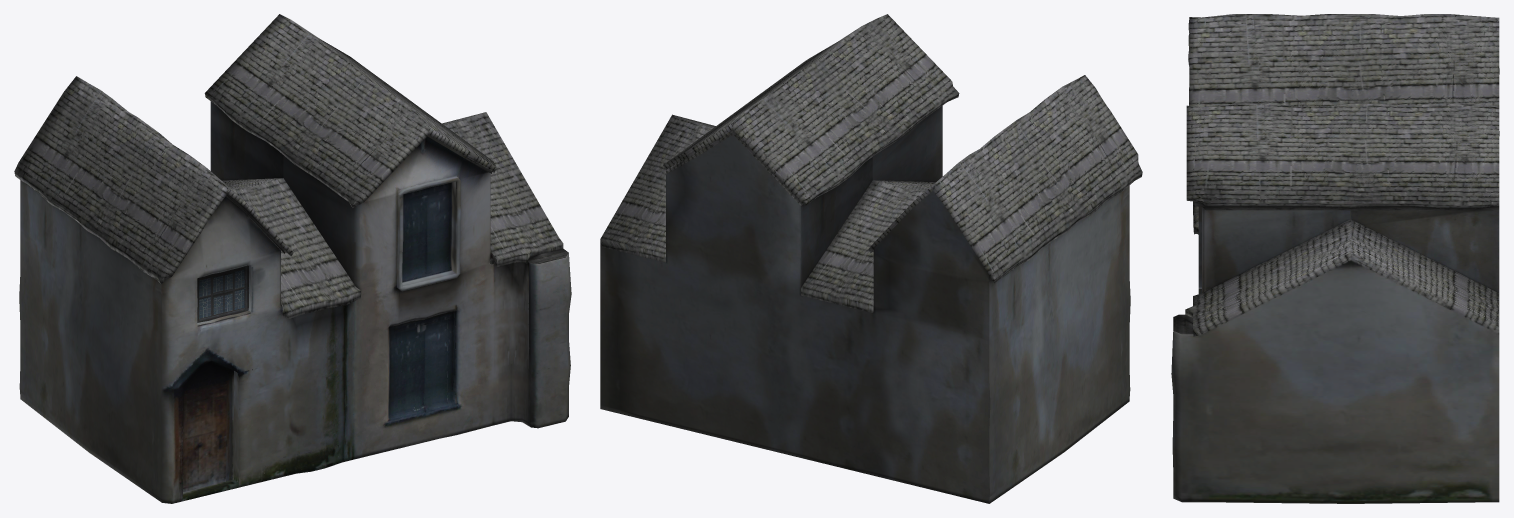
Rendered from medhouse19.fbx.
The picture shows the model from 3 angles, left to right: view 1: azimuth 30°, elevation 25°; view 2: azimuth 150°, elevation 25°; view 3: azimuth 270°, elevation 25°; orthographic projection. The views are drawn at different scales.
Visible parts, largest first — view 1: medhouse19; view 2: medhouse19; view 3: medhouse19.
Boxes of the visible parts, x1=… form: medhouse19: x1=14, y1=14, x2=571, y2=503; medhouse19: x1=600, y1=14, x2=1142, y2=503; medhouse19: x1=1171, y1=14, x2=1499, y2=503.
Bounding box in the file's own units: 997 × 766 × 686.
